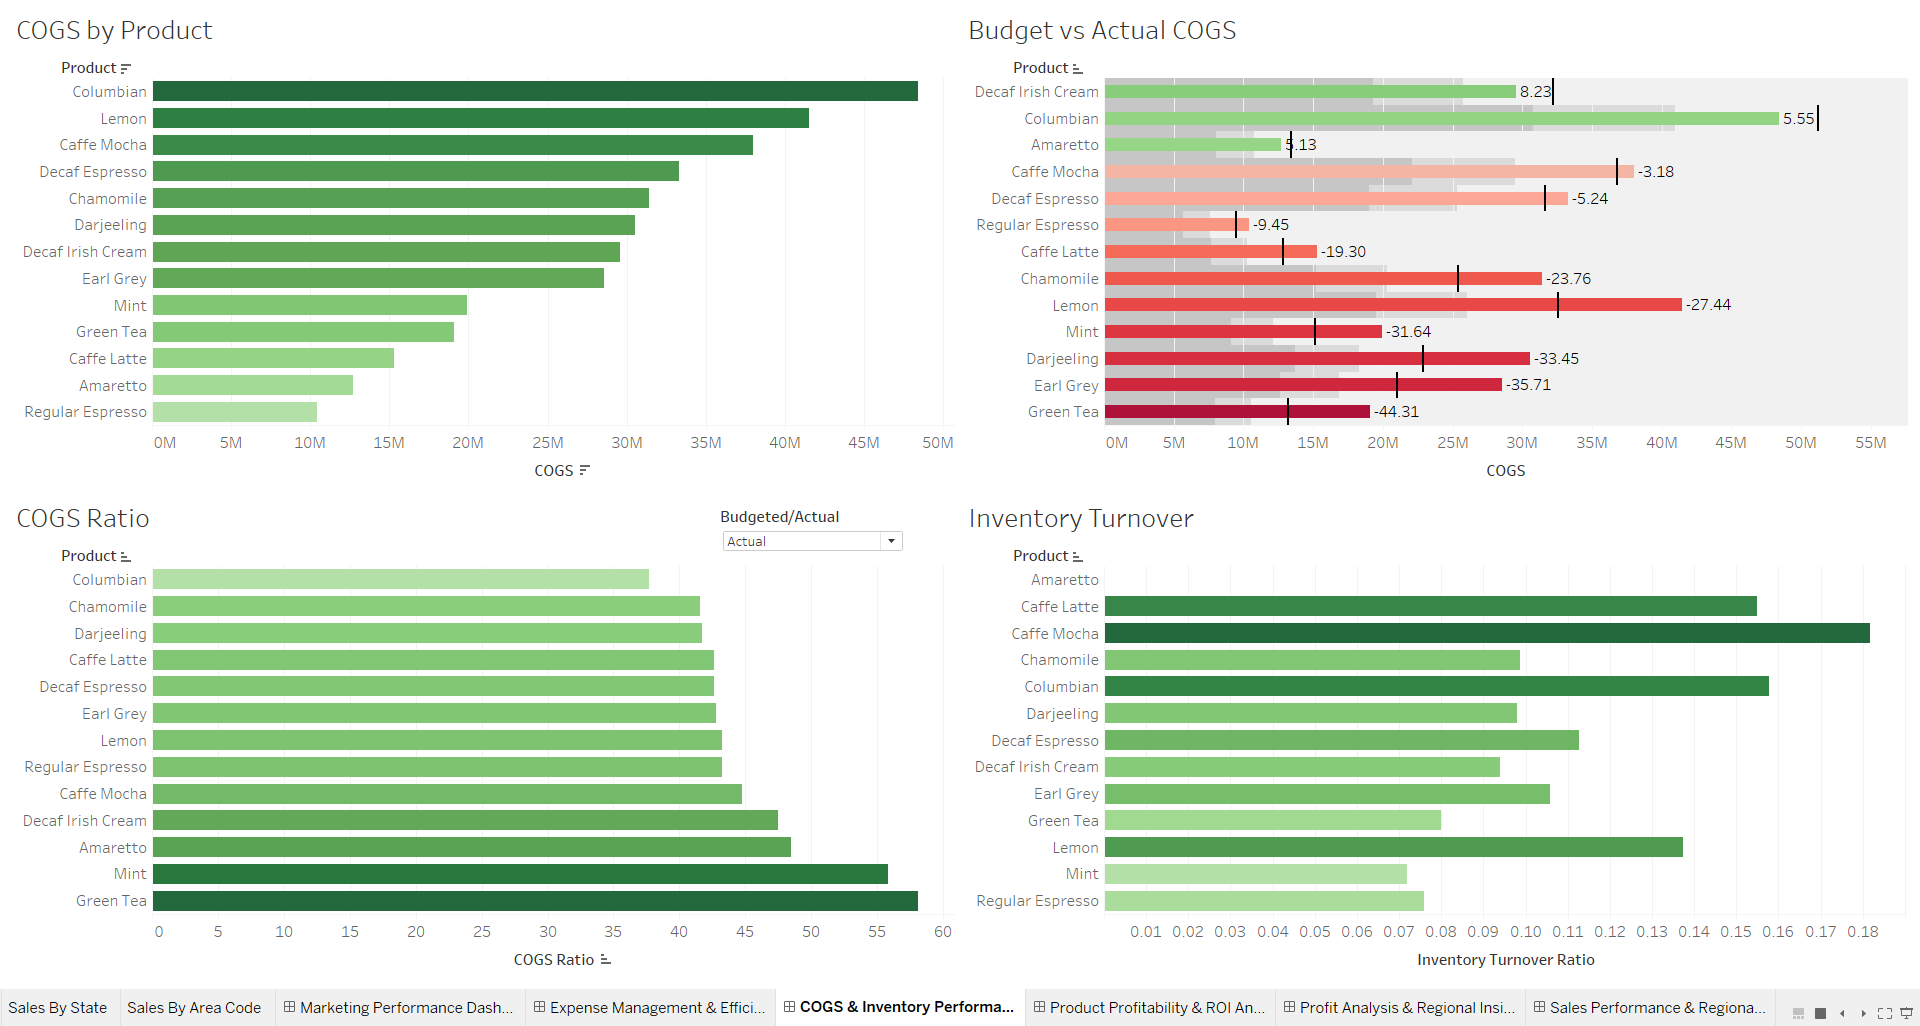

This screenshot's page, from the dashboard's own definition file:
{"tool":"tableau","page":{"name":"COGS & Inventory Performance Dashboard","canvas":[1000,1000],"units":"permille","ordinal":0},"visuals":[{"type":"worksheet","title":"COGS","mark":"Automatic","rows":["Product"],"cols":["Cogs"],"box":[4.2,8.1,495.8,491.9]},{"type":"worksheet","title":"COGS Comparison","mark":"Automatic","rows":["Product"],"cols":["Cogs"],"box":[500,8.1,495.9,491.9]},{"type":"worksheet","title":"COGS Ratio","mark":"Automatic","rows":["Product"],"cols":["Calculation_938156136782962712"],"box":[4.2,500,495.8,492]},{"type":"worksheet","title":"Inventory Turnover","mark":"Automatic","rows":["Product"],"cols":["Calculation_938156136783458329"],"box":[500,500,495.9,492]},{"type":"parameter","param":"[Parameters].[Parameter 1]","box":[374.9,513.1,96.9,59.9]}]}

Visuals, with their boxes on the dashboard's canvas, which has no fixed pixel size, in thousandths of its width and height (x1, y1, x2, y2). These are canvas units, not pixel positions in the 1920x1026 screenshot, which may show the page scaled, cropped or inside an application window:
"COGS" worksheet: detection(4, 8, 500, 500)
"COGS Comparison" worksheet: detection(500, 8, 996, 500)
"COGS Ratio" worksheet: detection(4, 500, 500, 992)
"Inventory Turnover" worksheet: detection(500, 500, 996, 992)
parameter: detection(375, 513, 472, 573)
